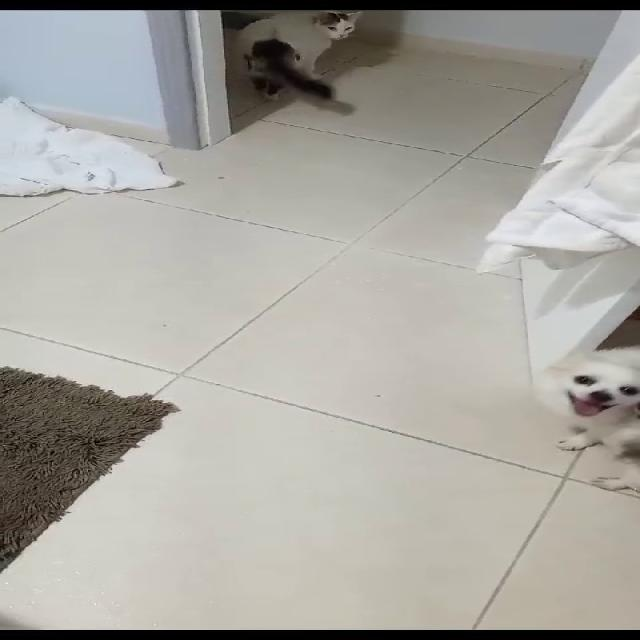Simba: (230, 11, 378, 119)
Theo: (528, 340, 638, 502)
